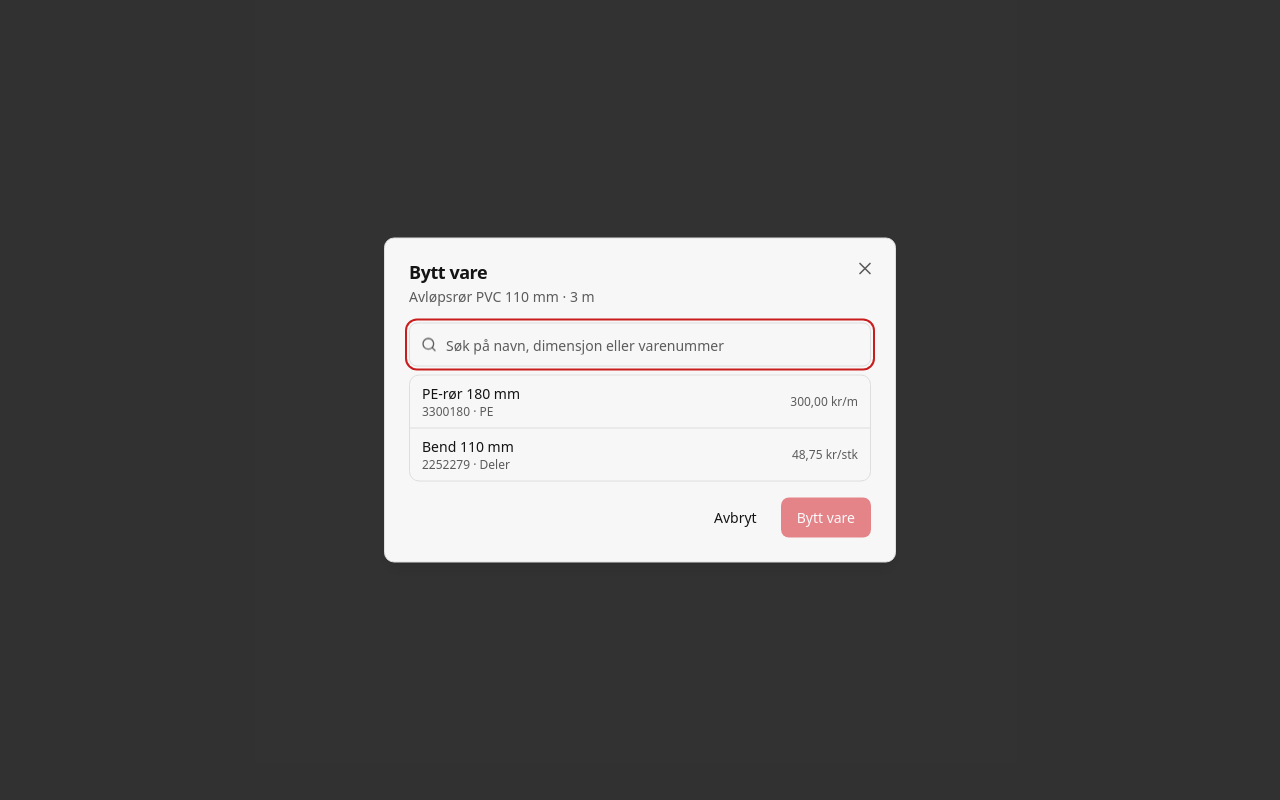
Scenario: bytt vare › feil rør: den gamle går tilbake, og ei anna eining blir åtvara om
The image size is (1280, 800).
Click the button "Bend 110 mm 2252279 · Deler 48,75 kr/stk".
click(468, 446)  # box x1=410 y1=428 x2=870 y2=480
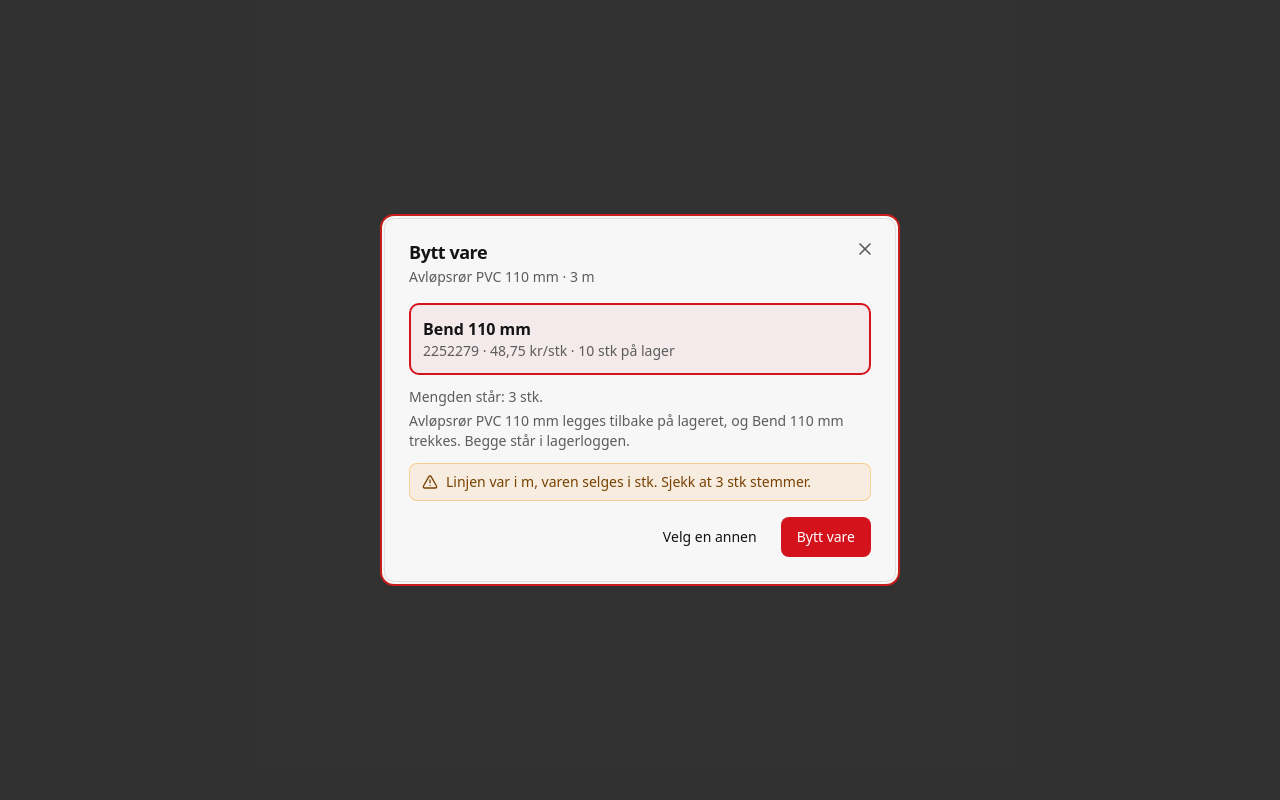
Check: the list item "legges tilbake på lageret" is shown, box x1=409 y1=411 x2=752 y2=430
Check: the text "Linjen var i m, varen selges i stk. Sjekk at 3 stk stemmer." is shown, box x1=409 y1=463 x2=871 y2=501
